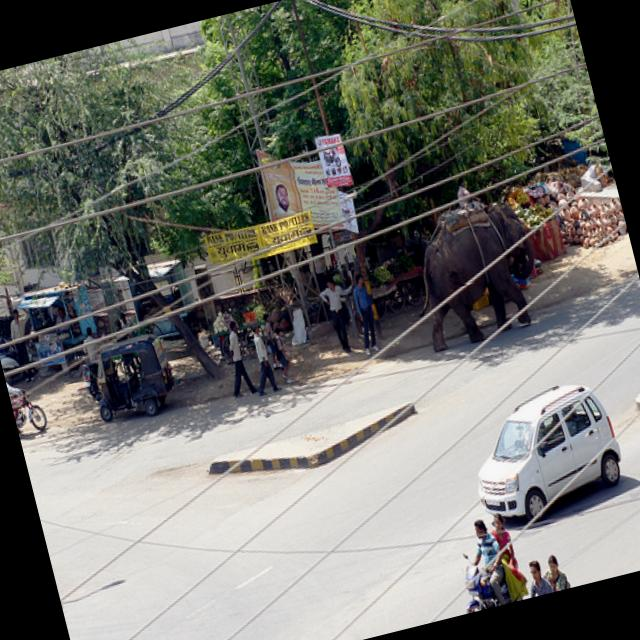Vehicle: (458, 374, 632, 534), (447, 540, 522, 614), (9, 386, 49, 434), (80, 360, 109, 404)
